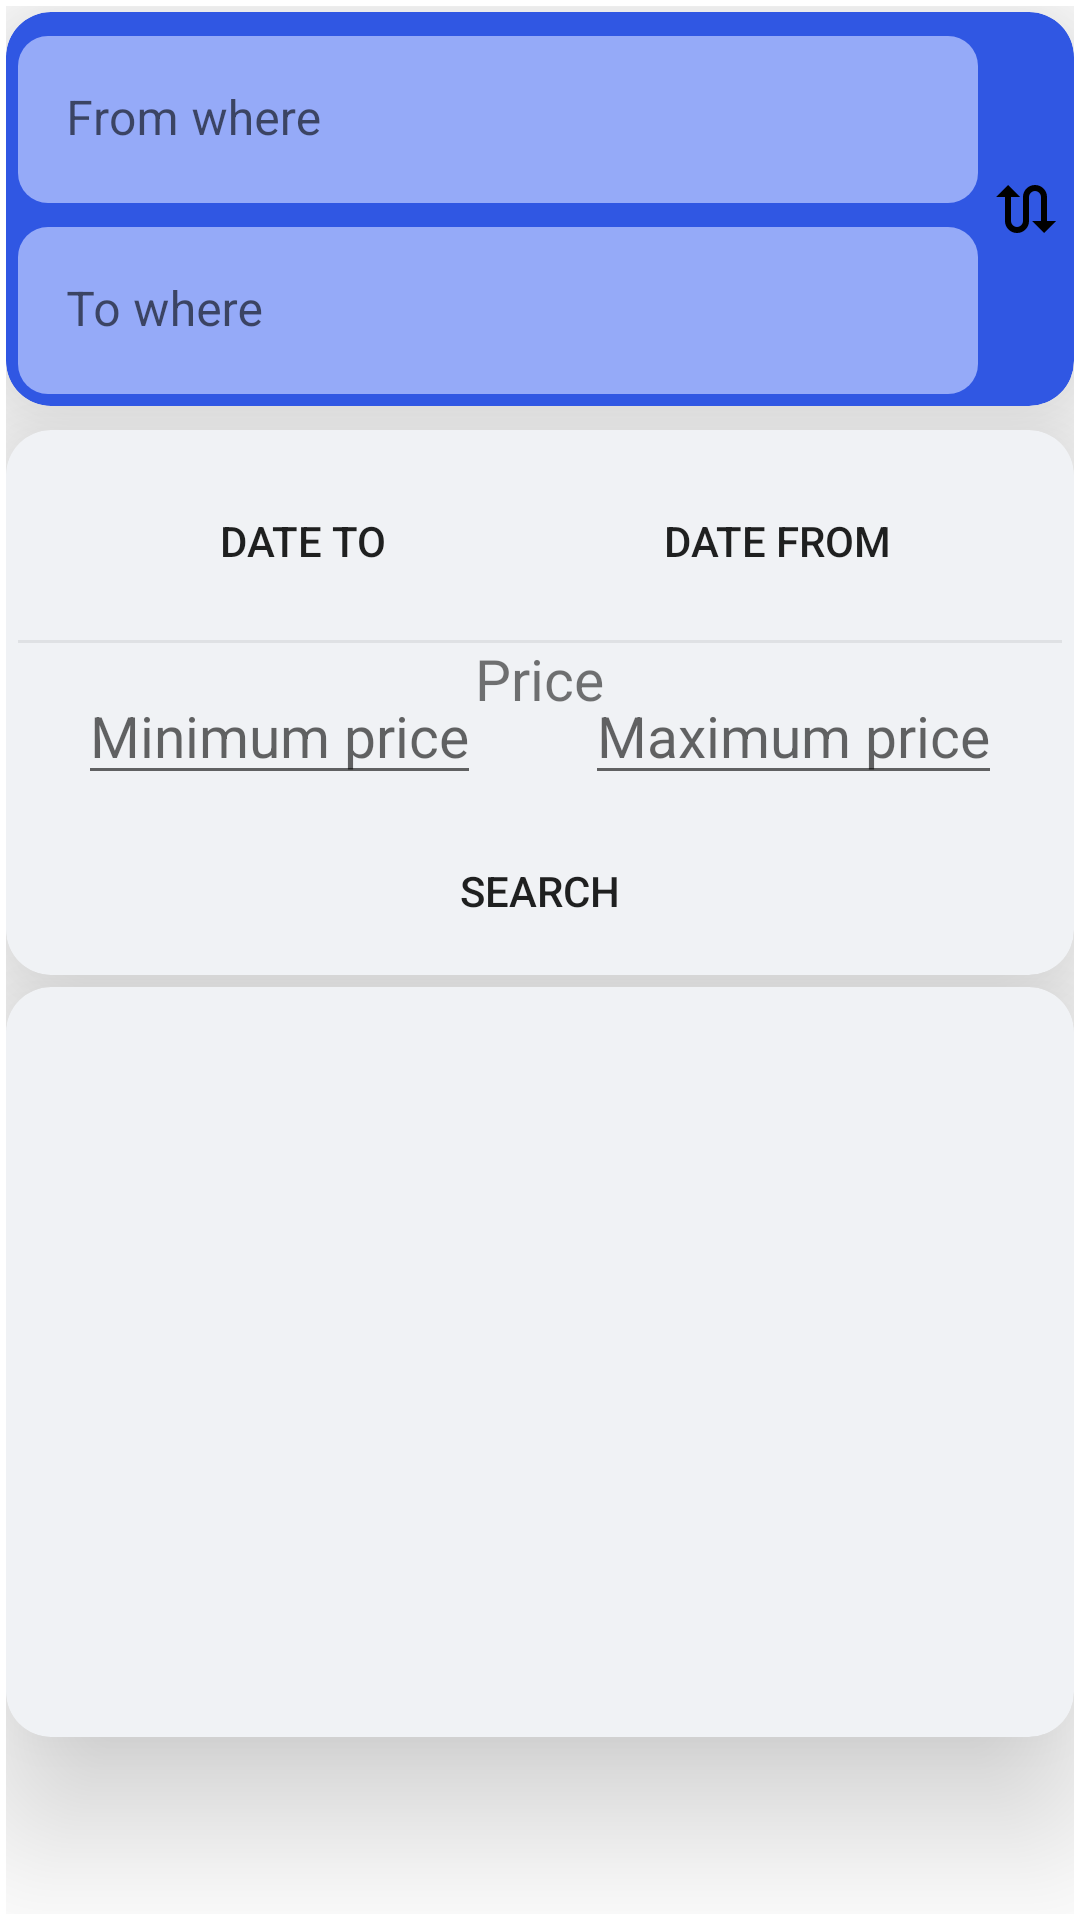

Named icons in this screenshot (1080×1920) and their centers, [x,y]:
swap: [1026,209]
